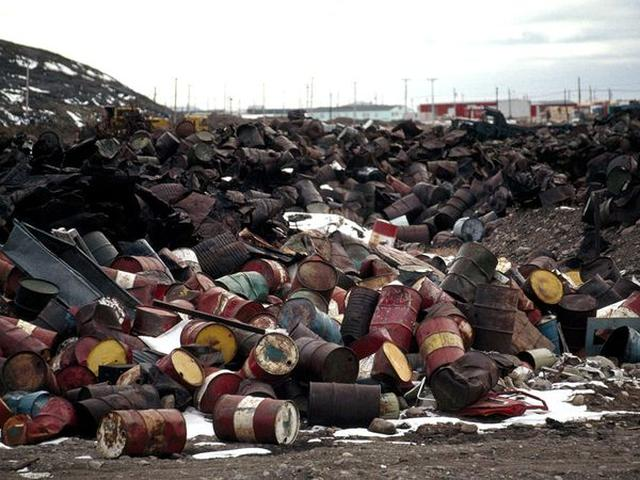garbage: (28, 133, 522, 390)
